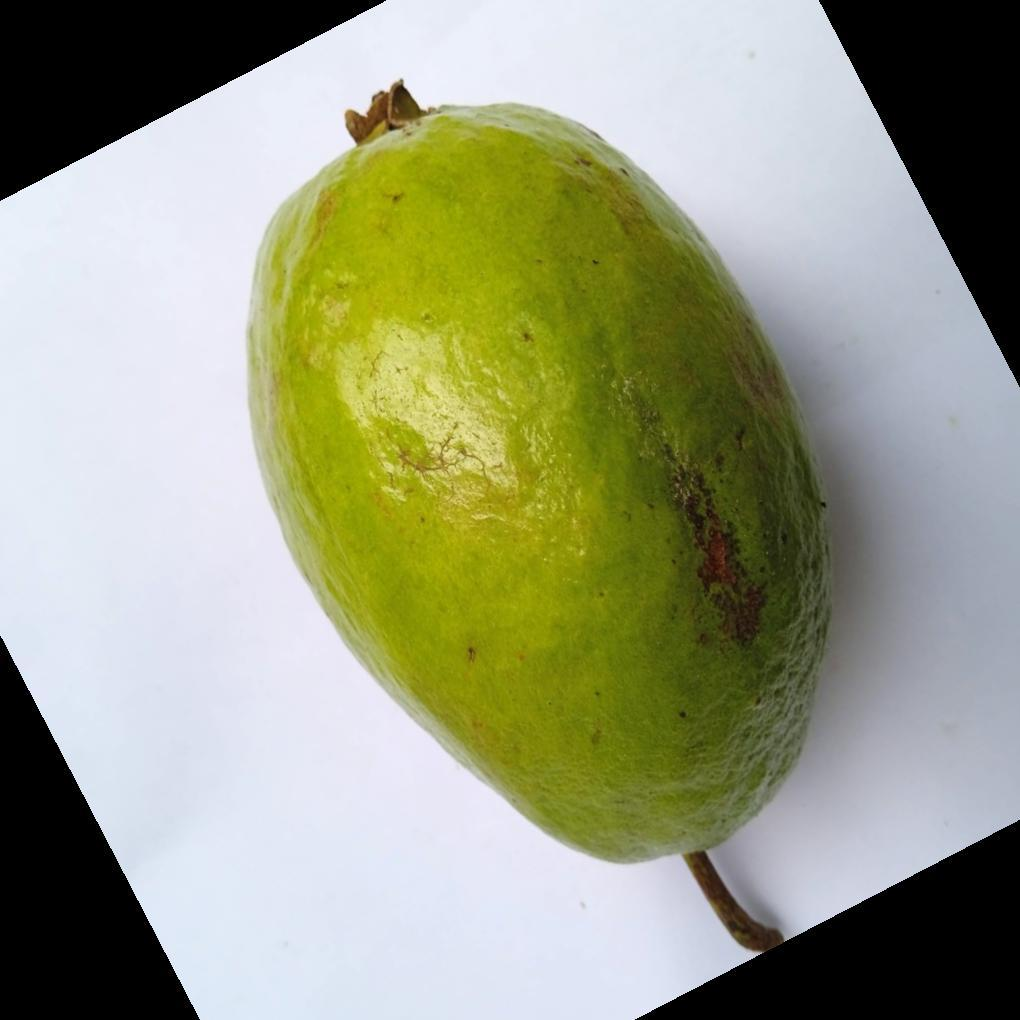FreshGuava: (242, 86, 832, 870)
